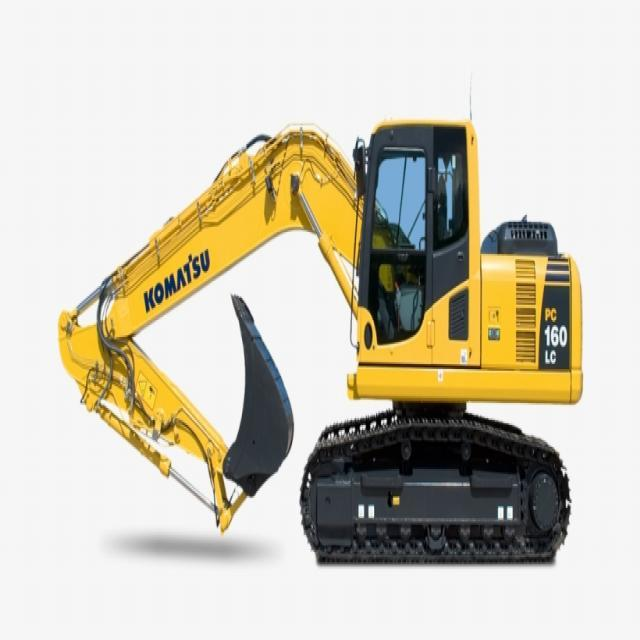C_E: (56, 119, 585, 566)
